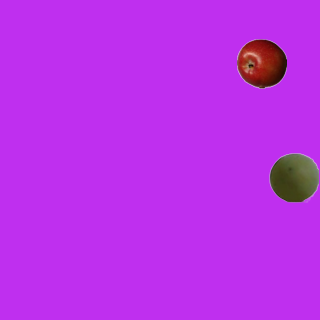Apple Braeburn: (236, 38, 286, 88)
Grape White 4: (268, 152, 318, 202)
